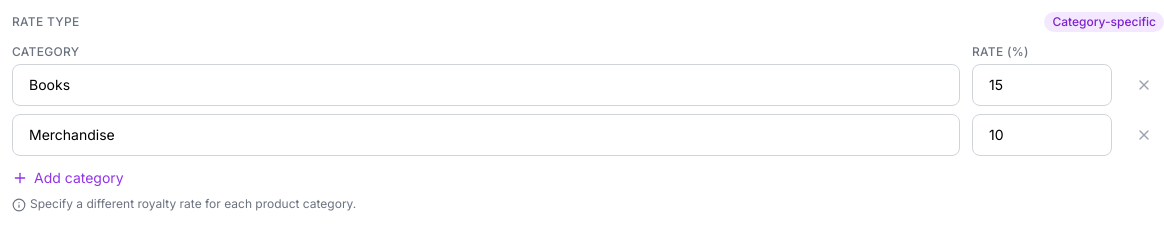
it: Category rate mode › removes a row when the remove button is clicked (2+ rows)
Click the 1st button named "remove category" at (1144, 85), box [1130,71,1158,99]
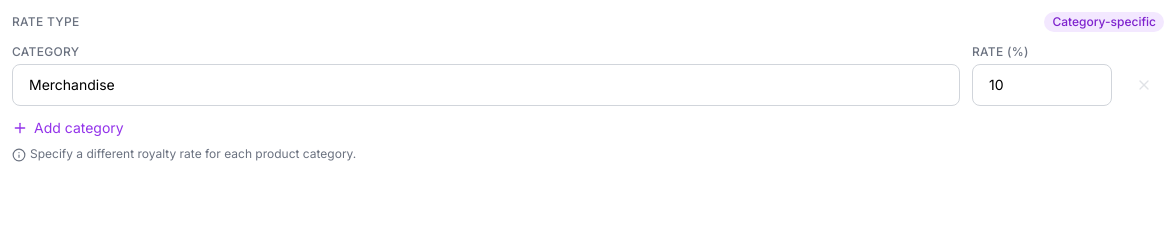
Expected: the number of fields named "category name" is 1, [12,64,960,106]
